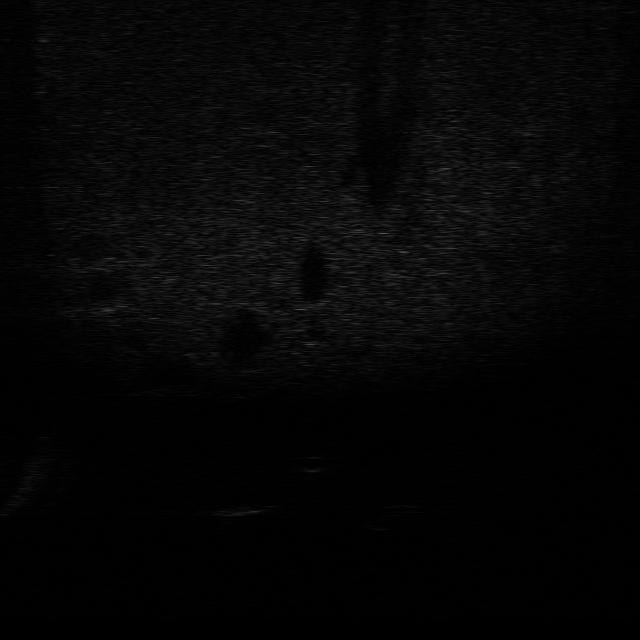ball: (288, 452, 338, 477)
square cage: (198, 494, 282, 526)
tyre: (352, 497, 422, 535)
